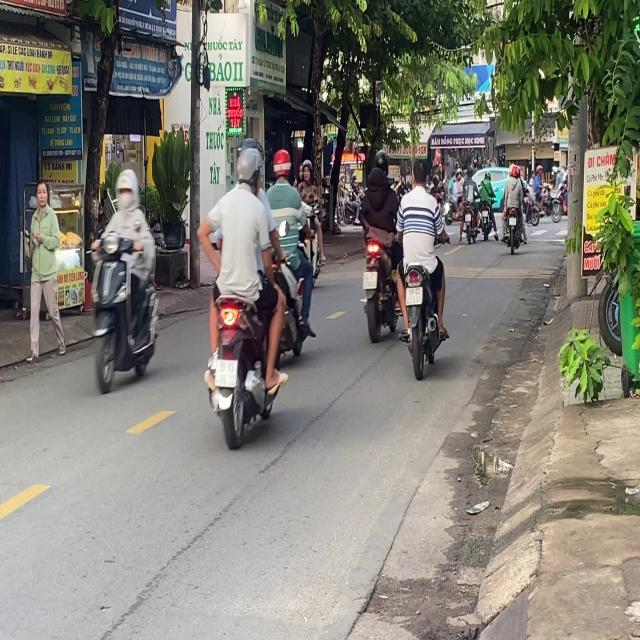helmet: (234, 140, 262, 192), (114, 167, 138, 211), (272, 148, 291, 182), (372, 147, 388, 175)
licenseplate: (198, 136, 288, 447), (87, 166, 162, 394), (397, 152, 450, 376), (263, 145, 316, 364), (358, 146, 404, 342)
motorcyclist: (411, 156, 428, 188)
nohelmet: (215, 359, 237, 387), (405, 286, 422, 304), (362, 270, 377, 288)
